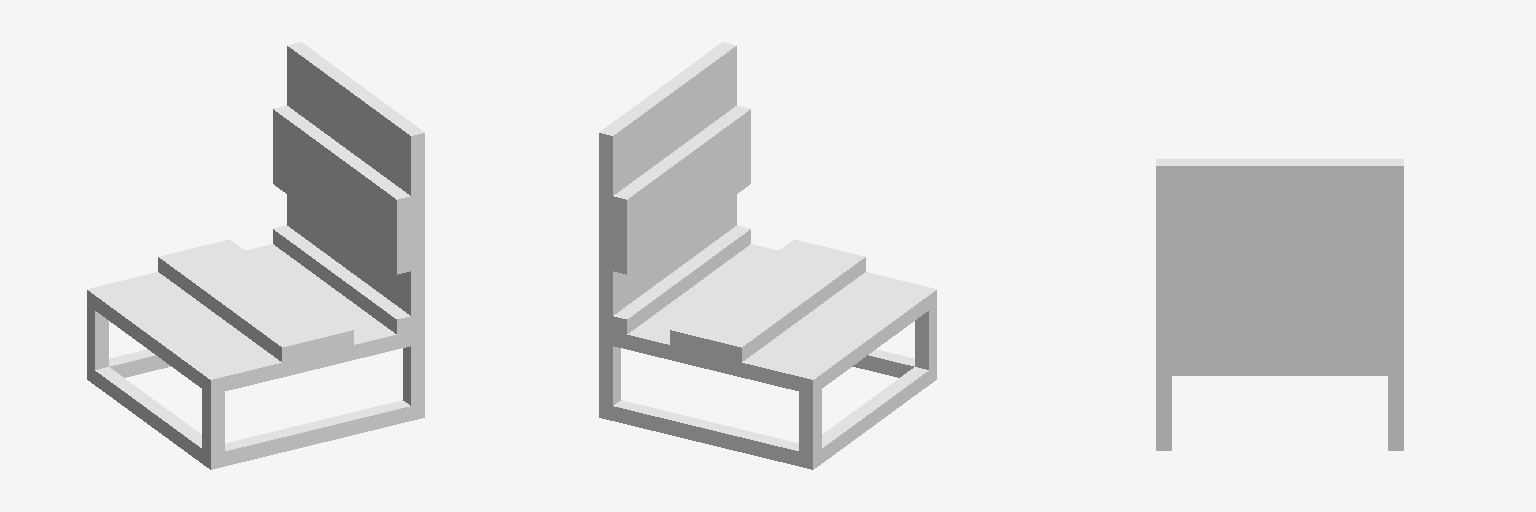
Rendered from korsy.obj.
The picture shows the model from 3 angles: view 1: azimuth 30°, elevation 25°; view 2: azimuth 150°, elevation 25°; view 3: azimuth 270°, elevation 25°; orthographic projection.
Visible parts, largest first — view 1: object 1; view 2: object 1; view 3: object 1.
Part boxes in pixels (left/top/right/bottom): object 1: left=87, top=42, right=424, bottom=469; object 1: left=599, top=42, right=936, bottom=469; object 1: left=1156, top=159, right=1403, bottom=450.
Size of the model in its own units: 1.5 by 1.9 by 1.5.